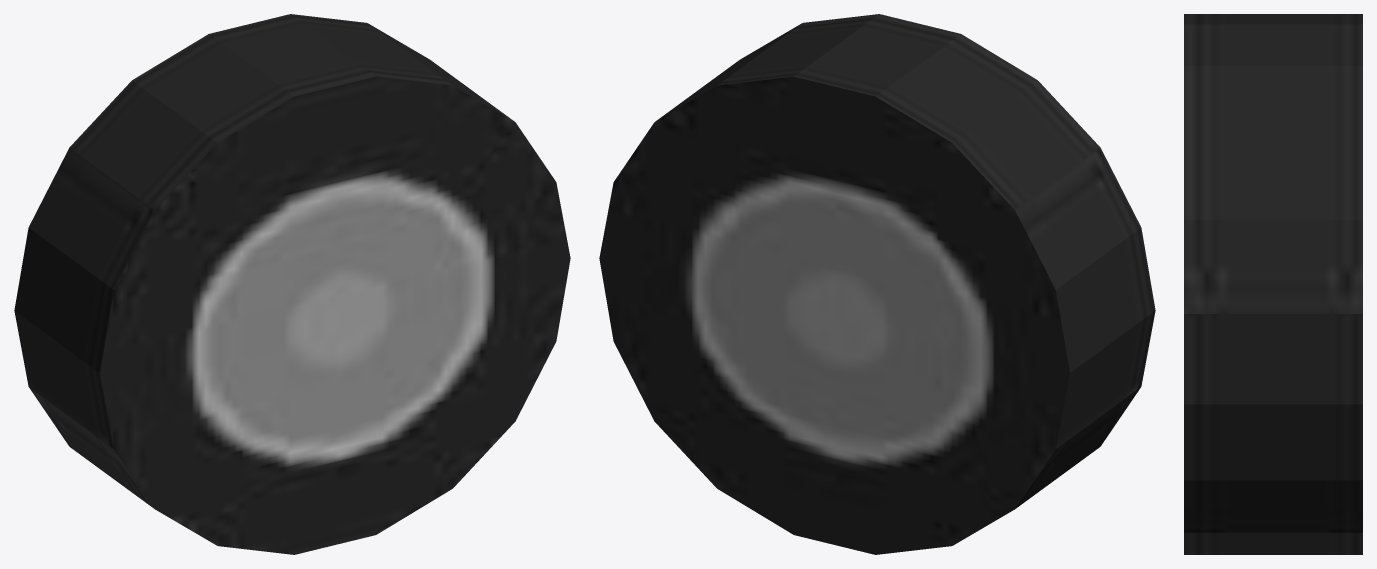
The picture shows the model from 3 angles, left to right: view 1: azimuth 30°, elevation 25°; view 2: azimuth 150°, elevation 25°; view 3: azimuth 270°, elevation 25°; orthographic projection. The views are drawn at different scales.
Parts seen in each view (by area): view 1: wheel; view 2: wheel; view 3: wheel.
Part boxes in pixels (bbox=[...]): wheel: bbox=[14, 14, 570, 554]; wheel: bbox=[599, 14, 1155, 554]; wheel: bbox=[1184, 14, 1362, 554].
Size of the model in its own units: 0.1507 by 0.1403 by 0.0475.
